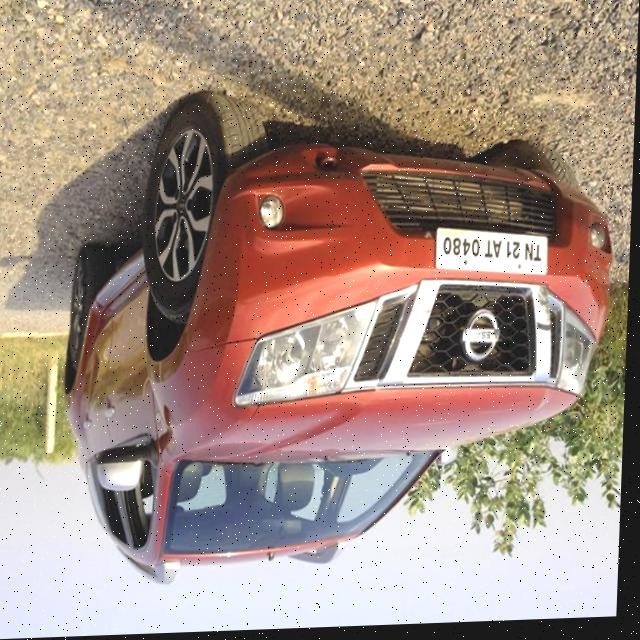plate: (436, 228, 553, 284)
